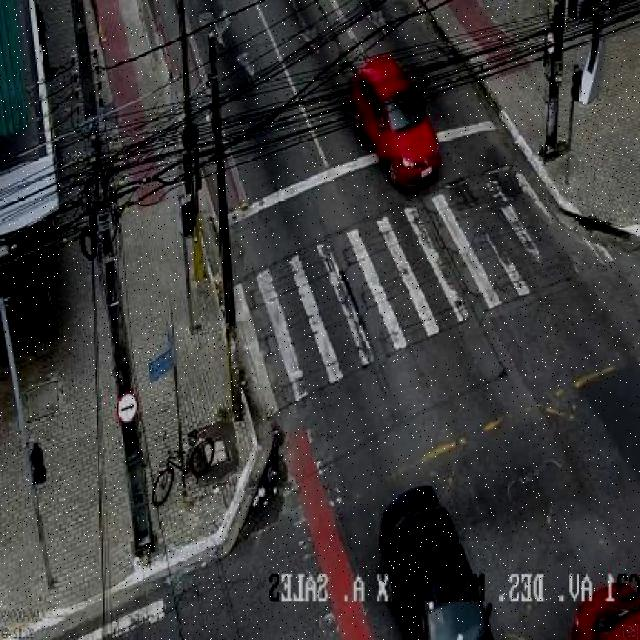Car: (387, 504, 495, 640), (352, 55, 443, 190), (570, 581, 640, 640)
Cycle: (150, 429, 216, 507)
